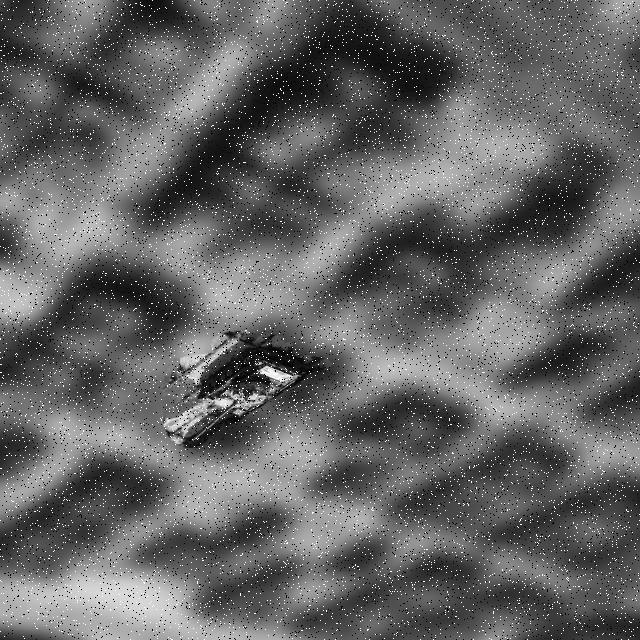MIL_MBT: (182, 346, 313, 444)
